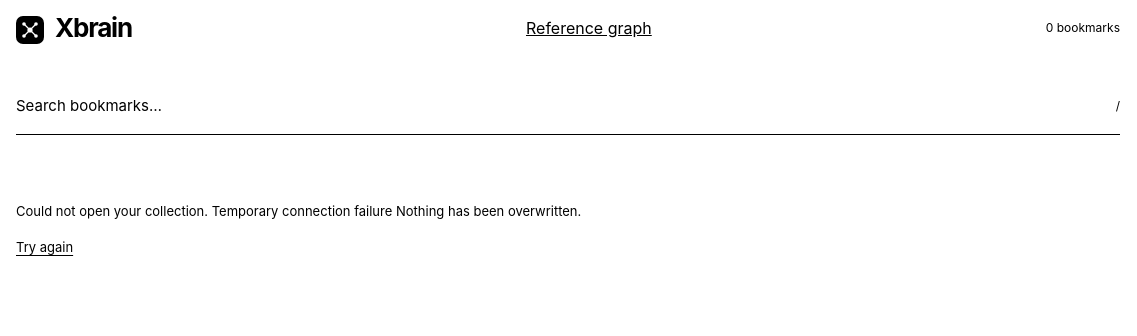
Library load failures › can retry a failed read and display the recovered real library
expect the text "Temporary connection failure" is shown: met, box [16, 202, 581, 218]
Click the button "Try again". click: [45, 248]
box: [16, 236, 73, 259]
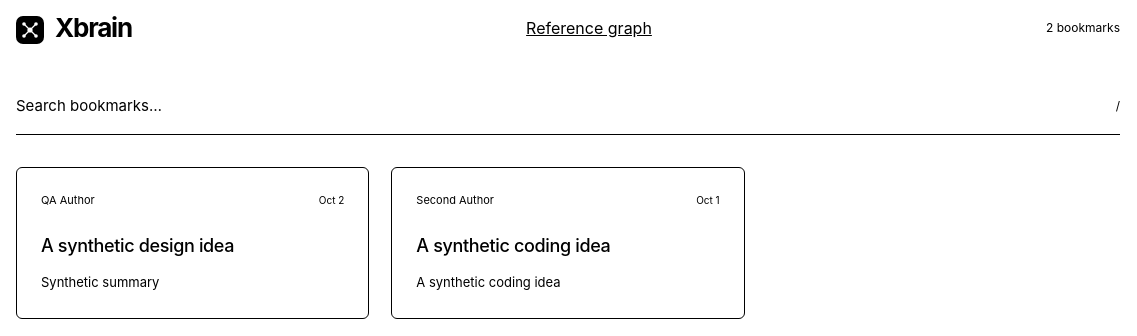
expect the heading "A synthetic design idea" is shown: met, box [41, 235, 234, 256]
expect the text "Temporary connection failure" is gone: met
